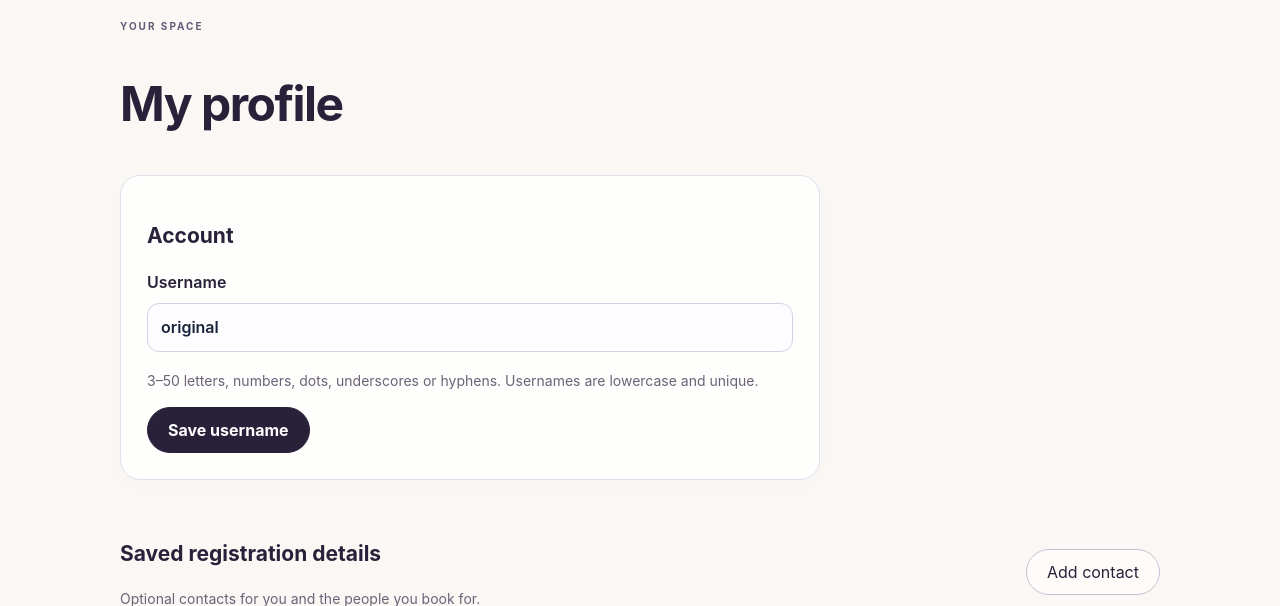
Test: saves a named contact without student ID and lists it for future use
Click the button "Add contact" at (1093, 572), box [1026,549,1160,595]
(page scrolled)
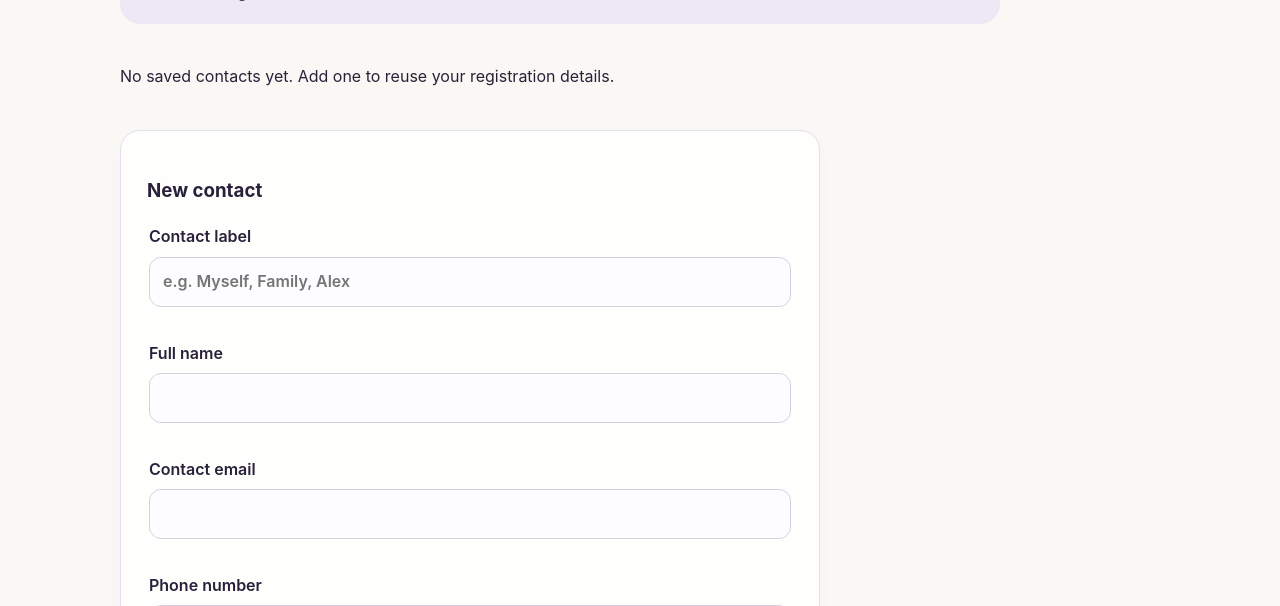
Type "Family" into the field labelled "Contact label" at (470, 282), box [149,257,791,306]
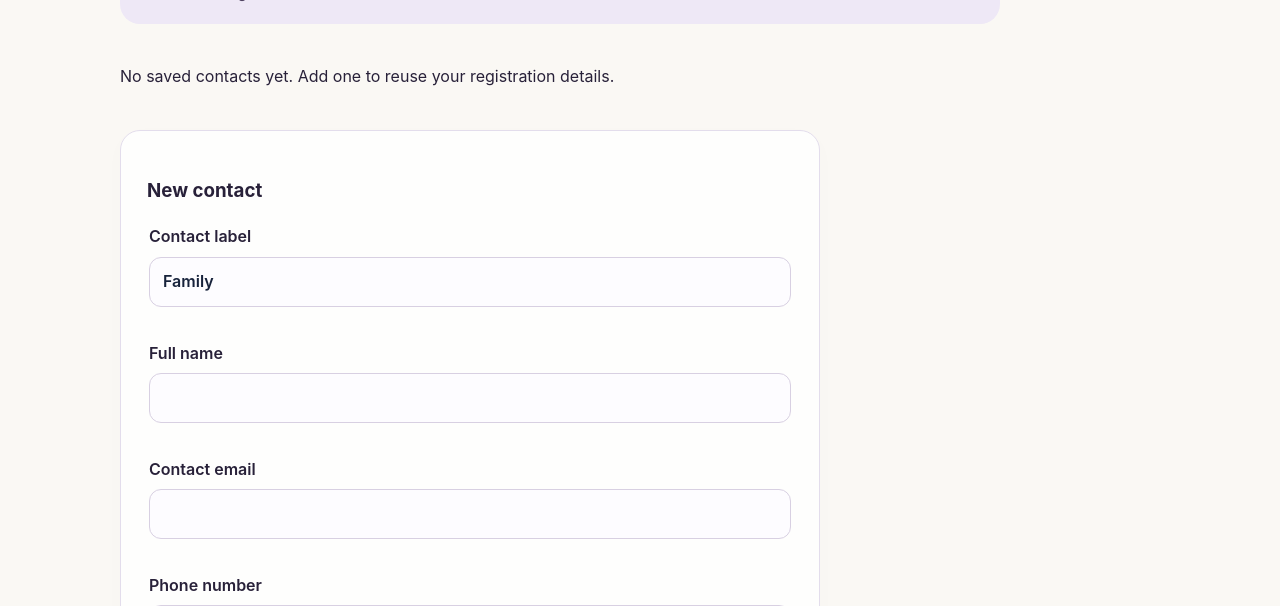
Type "Alex" into the field labelled "Full name" at (470, 398), box [149,373,791,423]
(page scrolled)
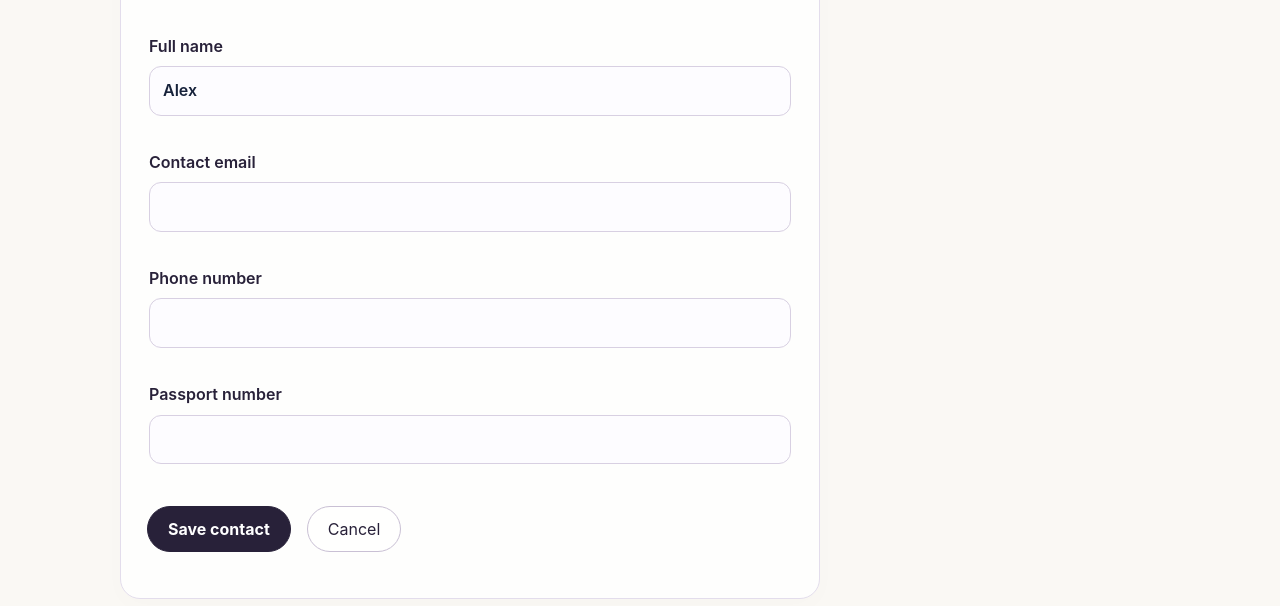
Click the button "Save contact" at (219, 529), box [147,506,291,552]
(page scrolled)
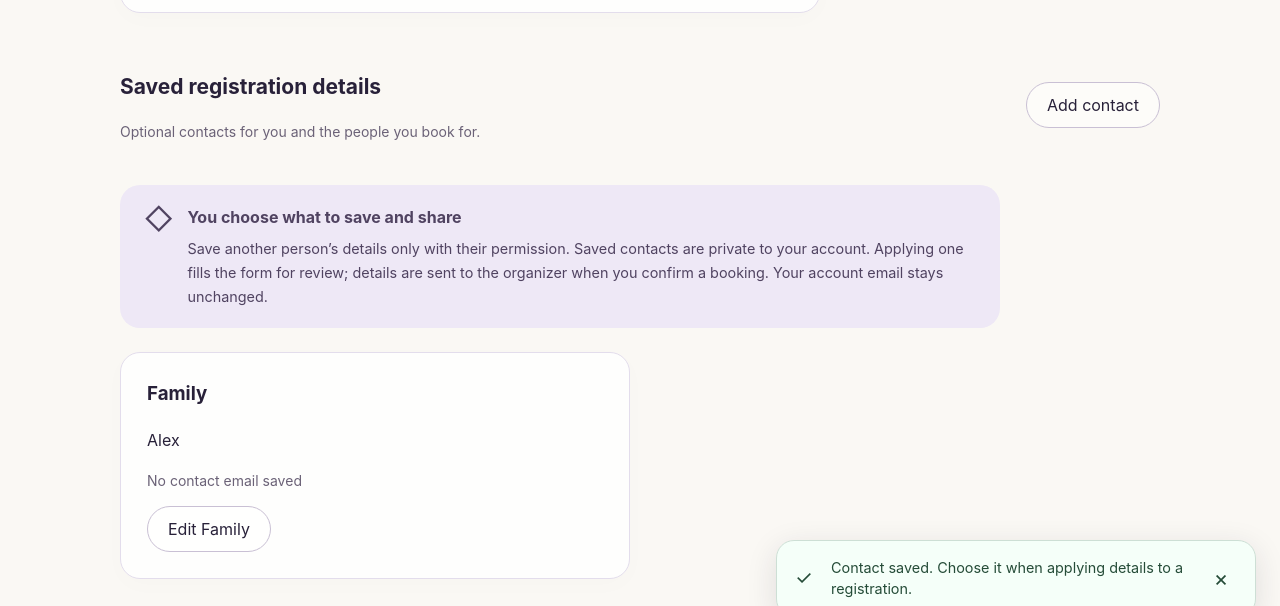
Check: the button "Edit Family" is shown, box [147,506,271,552]
